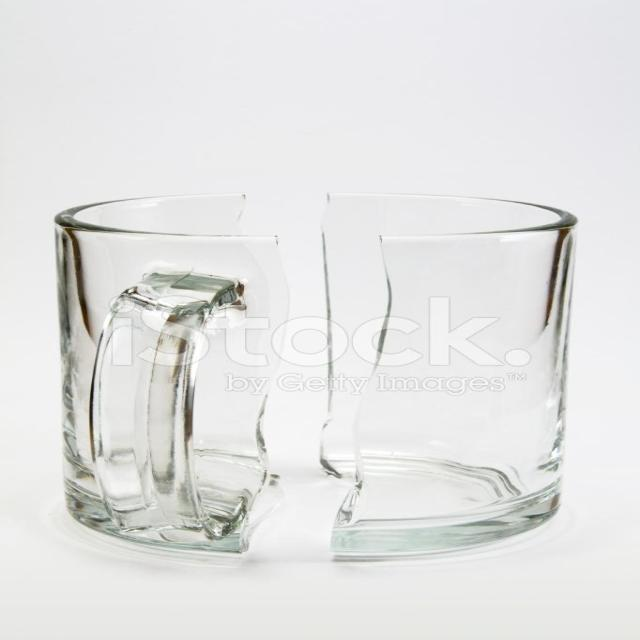Glass: (49, 192, 595, 565)
